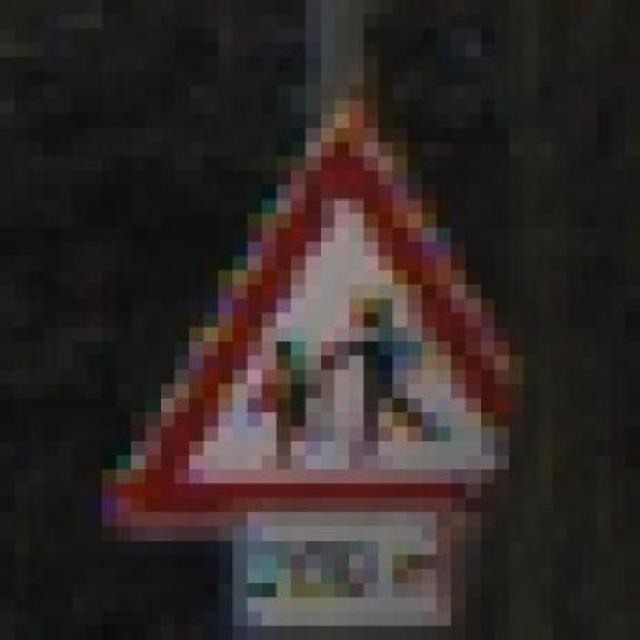Beware of children: (102, 86, 568, 554)
